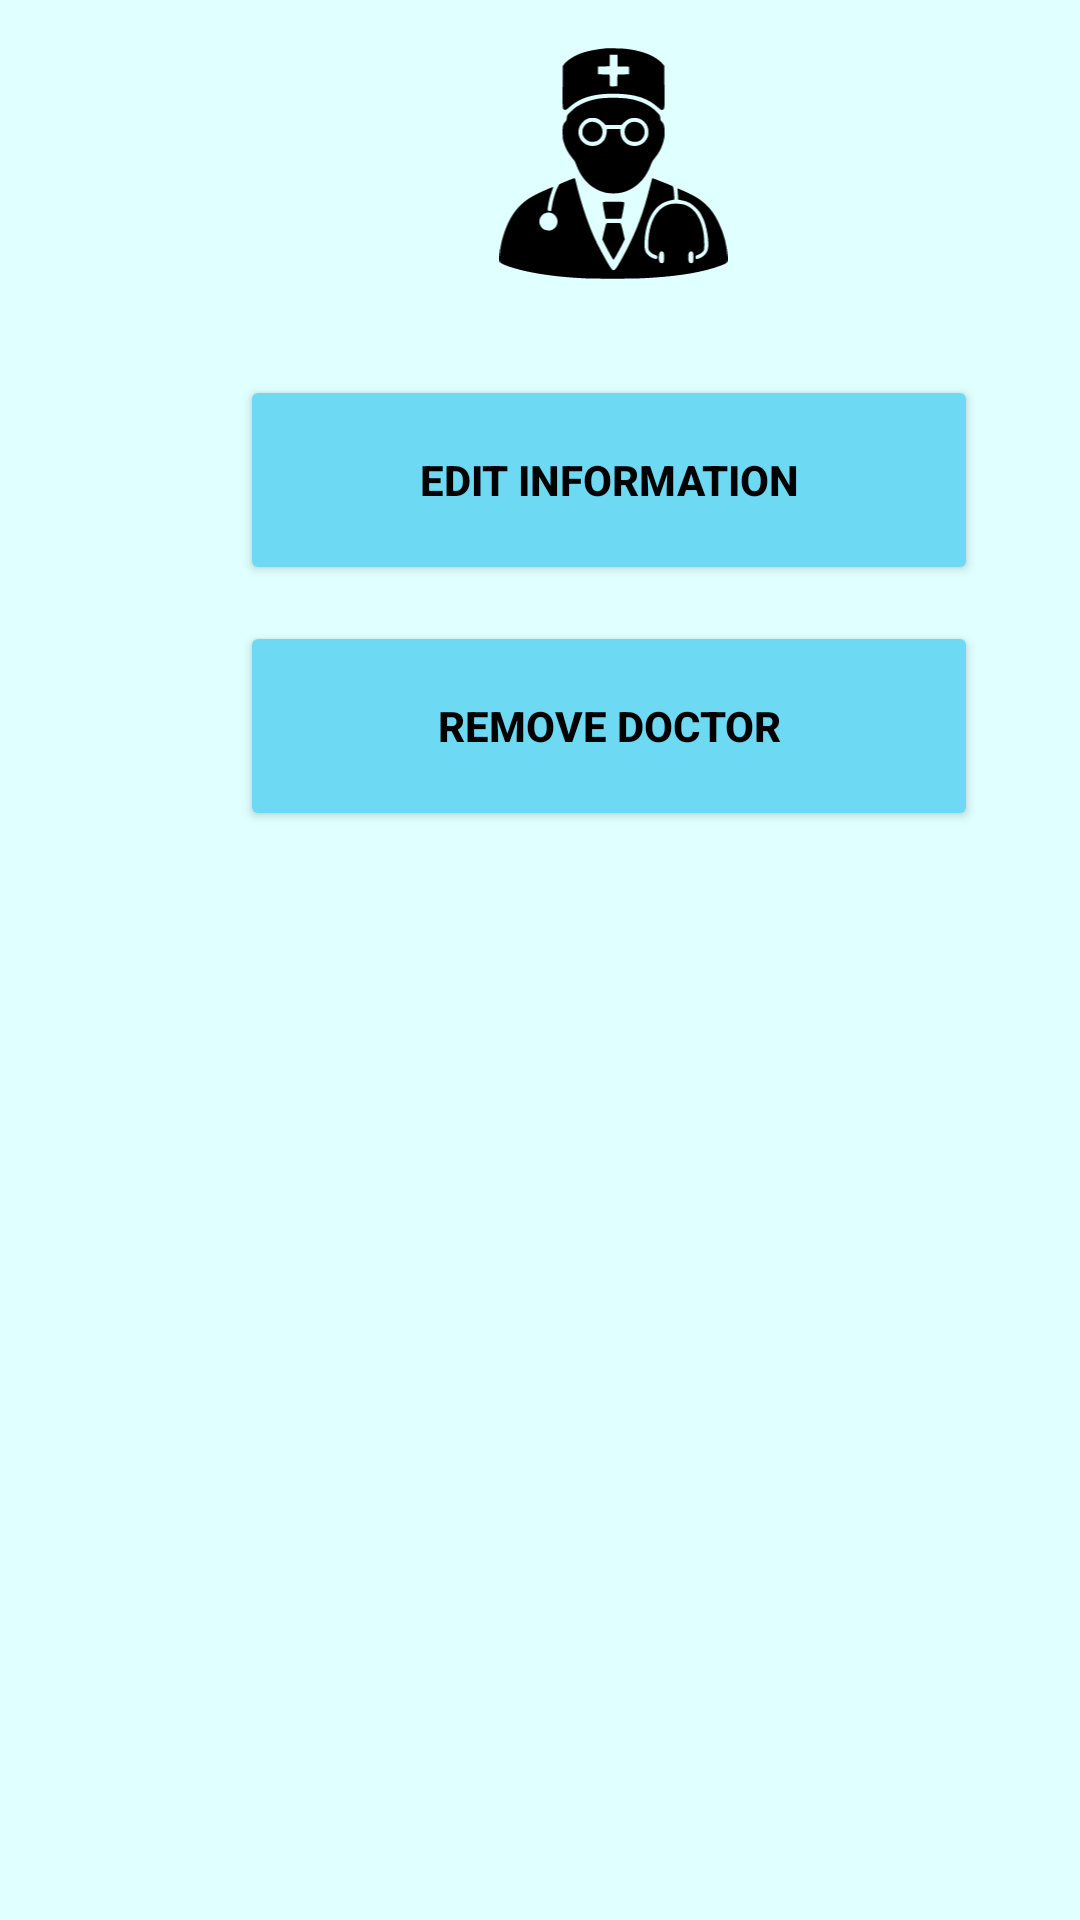

Icon bounding boxes for this 1080px x 1920px phone screenshot, format (x1,y1,x2,y2):
doctor symbol: (499,48,728,279)
